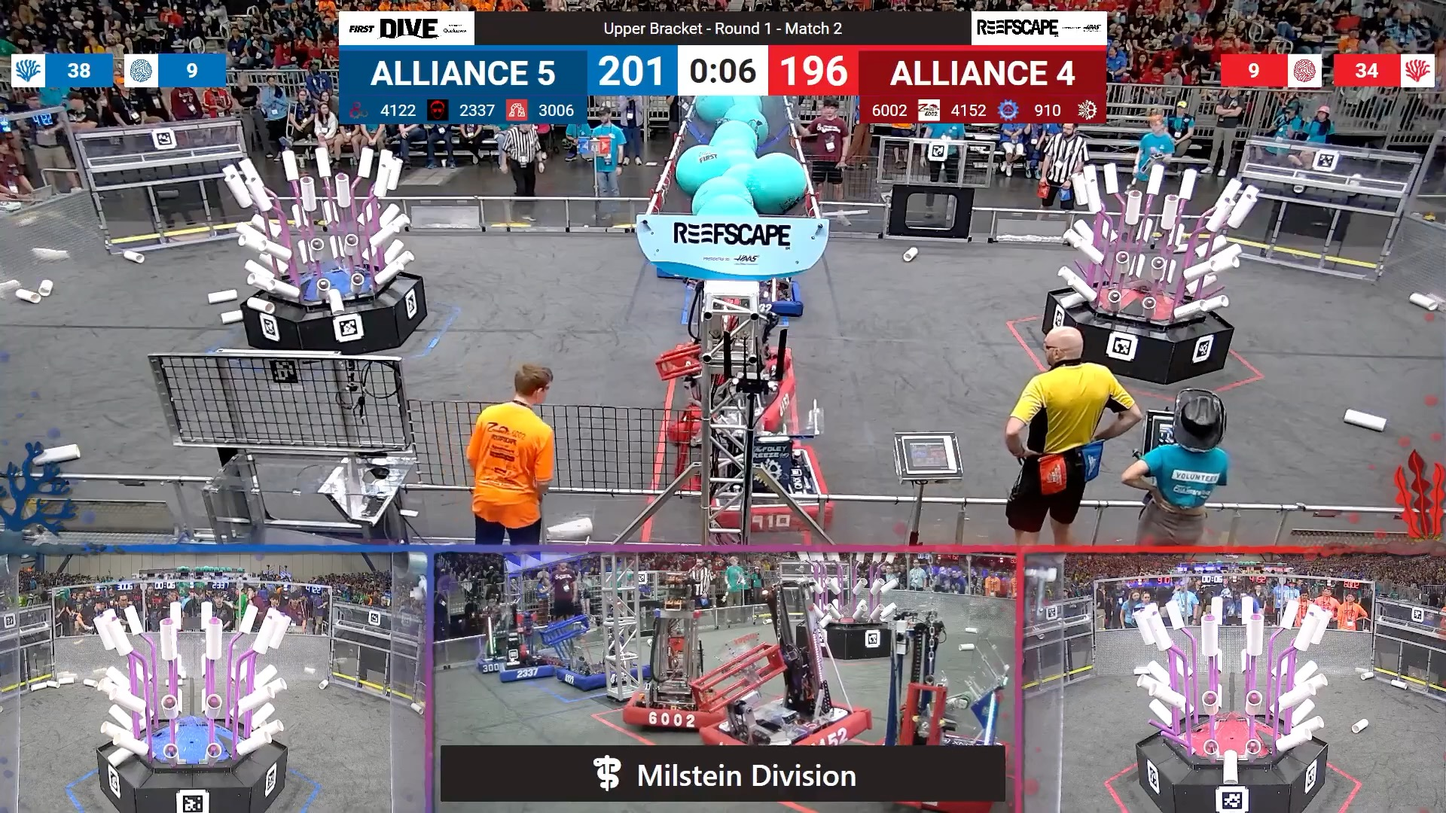bumpers: (701, 465, 835, 535), (700, 703, 872, 749), (750, 280, 808, 316), (548, 665, 627, 691)
